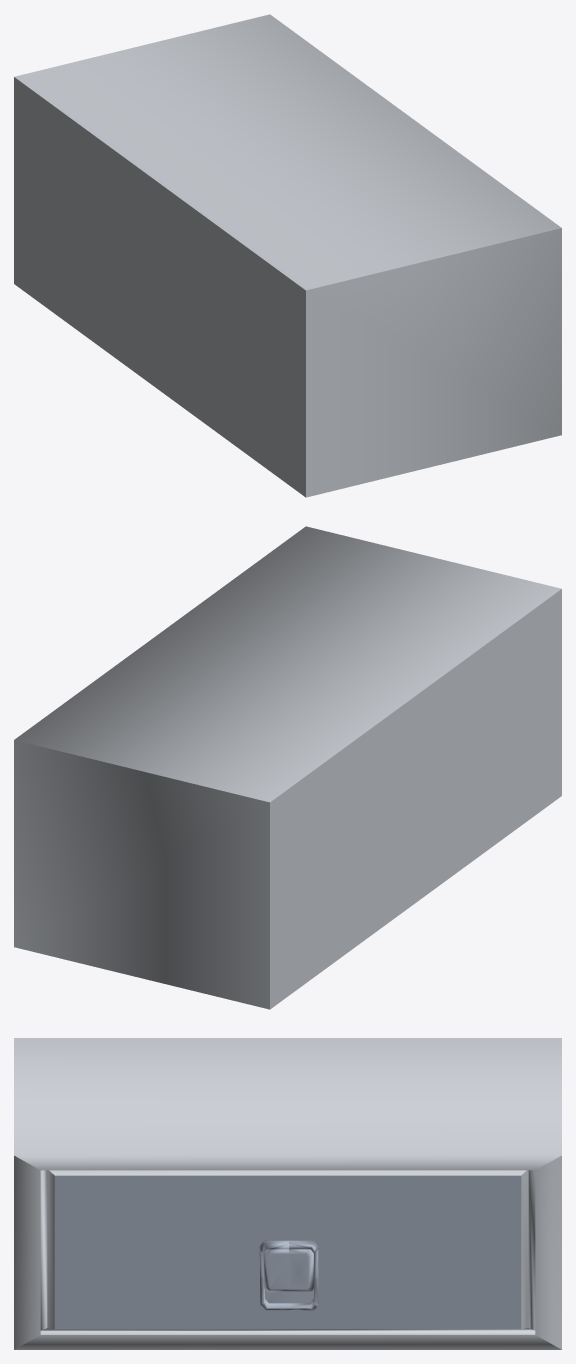
The model's file is jac_toolbox.glb.
The picture shows the model from 3 angles, top to bottom: view 1: azimuth 30°, elevation 25°; view 2: azimuth 150°, elevation 25°; view 3: azimuth 270°, elevation 25°; orthographic projection. The views are drawn at different scales.
Visible parts, largest first — view 1: chrome; view 2: chrome; view 3: chrome, steel.
Boxes of the visible parts, <box> form: chrome: <box>14,14,561,497</box>; chrome: <box>14,526,561,1009</box>; chrome: <box>14,1038,561,1349</box>; steel: <box>54,1175,521,1329</box>.
Size of the model in its own units: 0.5721 by 0.4261 by 1.09.
